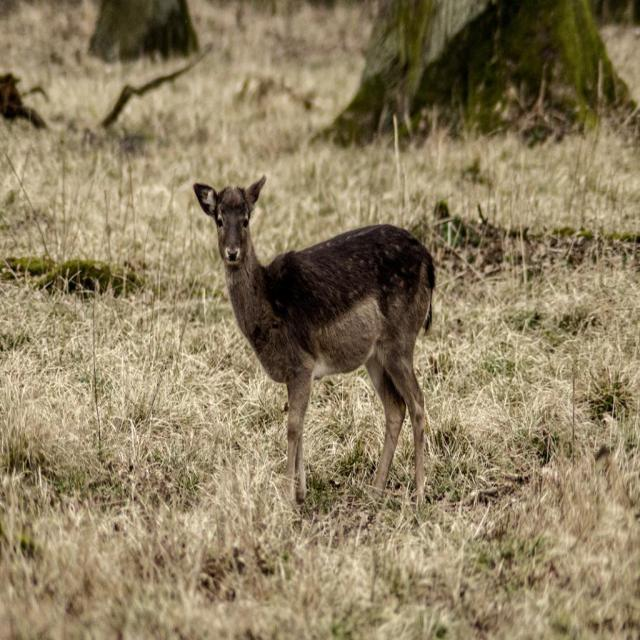Deer: (190, 176, 435, 509)
